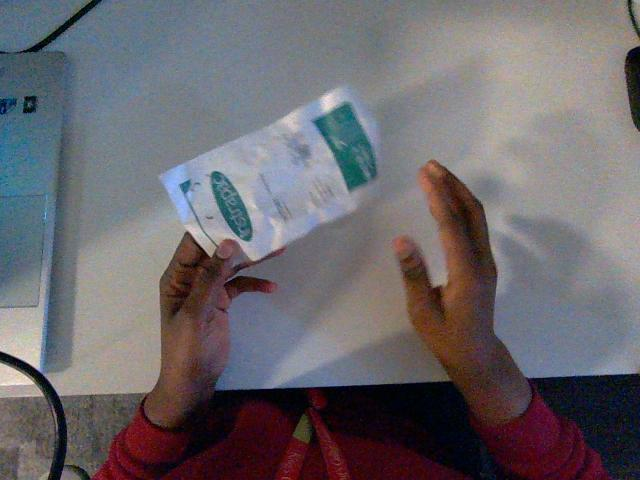gallipot: (160, 87, 378, 259)
